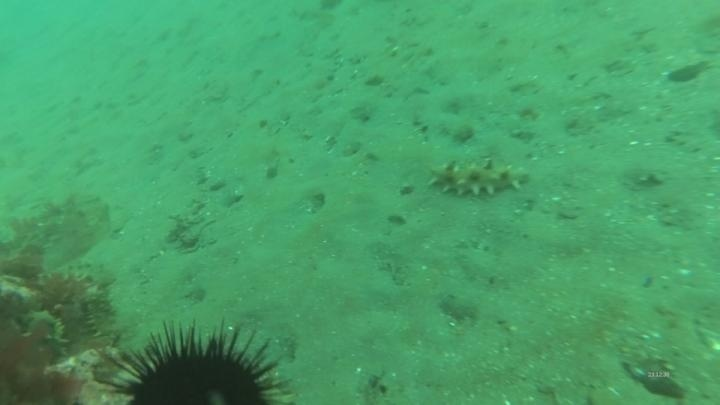echinus: (97, 318, 295, 404)
holothurian: (424, 154, 531, 201), (20, 305, 77, 357), (80, 284, 122, 346), (49, 258, 118, 291)
